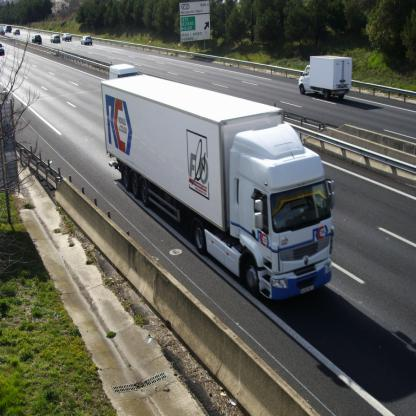Car: (80, 35, 92, 45), (31, 34, 42, 44), (61, 33, 72, 41), (50, 34, 60, 42), (0, 40, 4, 56), (4, 26, 12, 34), (12, 28, 20, 34), (0, 25, 4, 34)
Truck: (108, 68, 340, 324), (298, 56, 353, 101)
